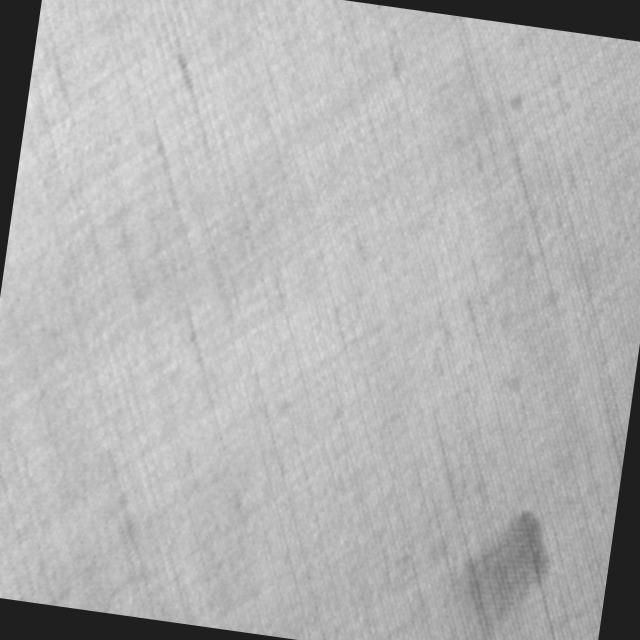oil spot: (450, 496, 563, 640)
